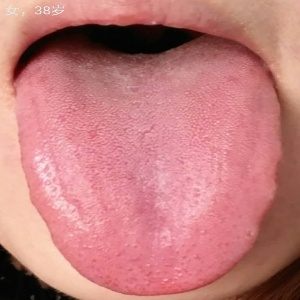st: (14, 77, 288, 297)
